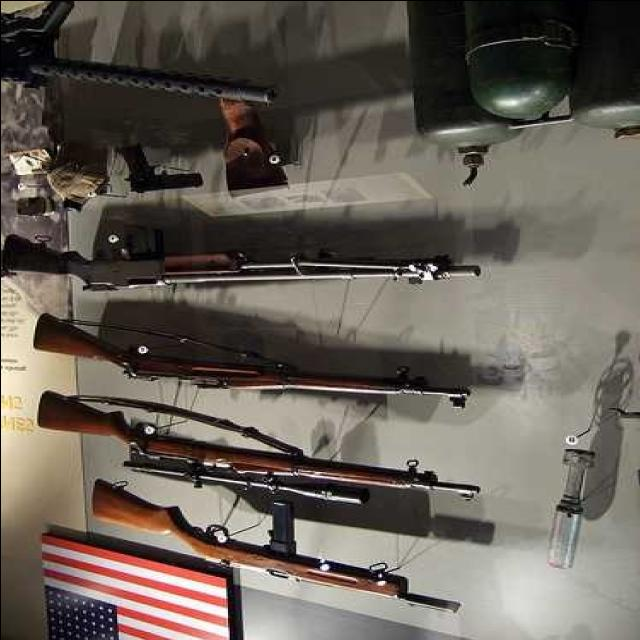heavyweapon: (68, 487, 518, 639), (2, 207, 510, 320), (19, 304, 491, 425), (21, 393, 503, 511)
